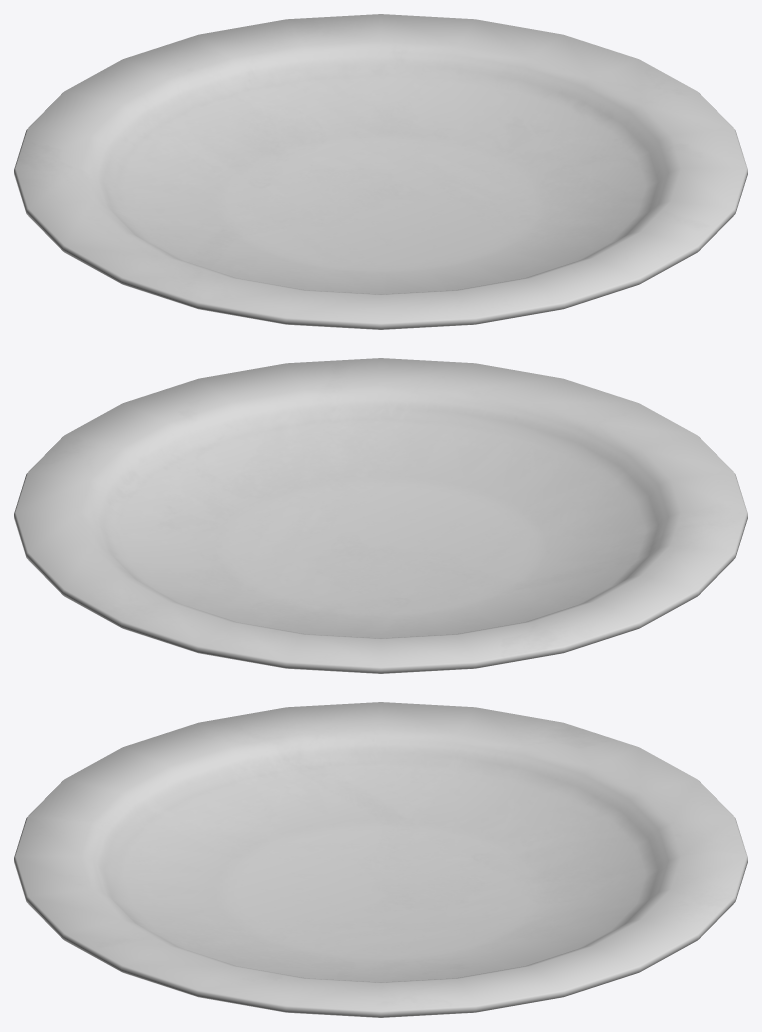
Rendered from Plate_01 1.FBX.
The picture shows the model from 3 angles, top to bottom: view 1: azimuth 30°, elevation 25°; view 2: azimuth 150°, elevation 25°; view 3: azimuth 270°, elevation 25°; orthographic projection.
Parts seen in each view (by area): view 1: Plate_01; view 2: Plate_01; view 3: Plate_01.
Boxes of the visible parts, x1=… form: Plate_01: x1=14, y1=14, x2=747, y2=329; Plate_01: x1=14, y1=358, x2=747, y2=673; Plate_01: x1=14, y1=702, x2=747, y2=1017.
Size of the model in its own units: 20 by 1.27 by 20.
1 material, 1 textured.
